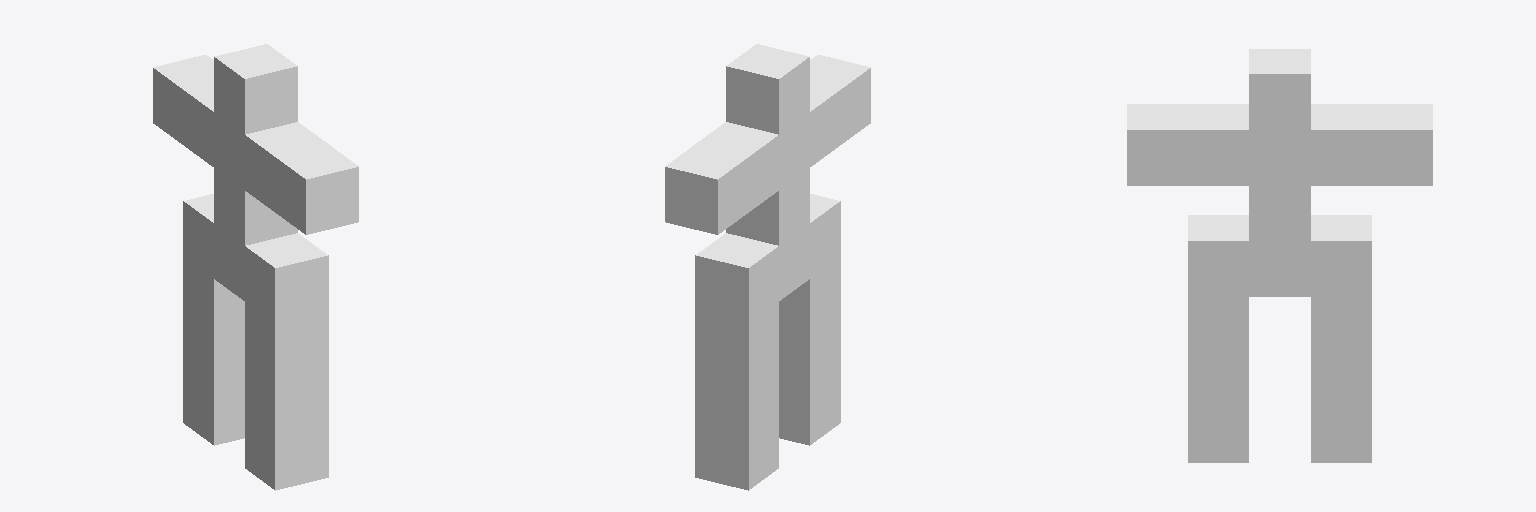
File: USInfantry.obj
3 renders of one model, left to right at view 1: azimuth 30°, elevation 25°; view 2: azimuth 150°, elevation 25°; view 3: azimuth 270°, elevation 25°, orthographic.
Bounding box in the file's own units: 1 × 7 × 5.